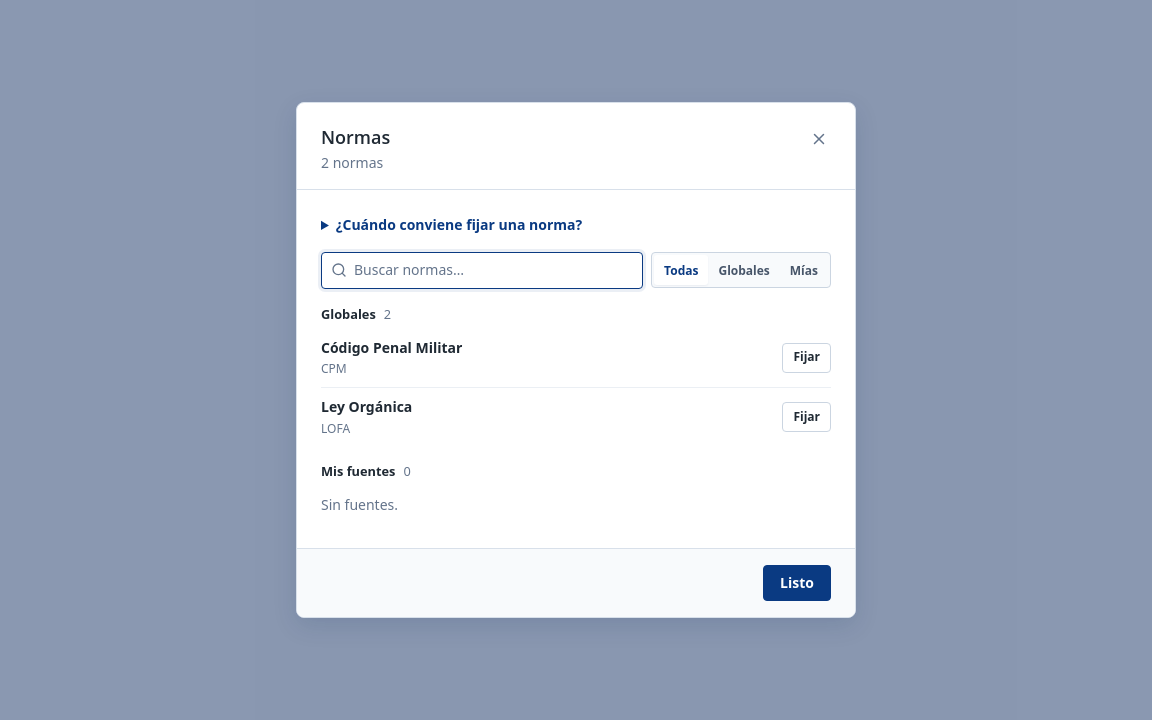
it: SelectorFuentes › filtra por nombre o abreviatura con el buscador
This screenshot has width=1152, height=720.
Type "codigo" into the search field labelled "Buscar normas". click: [482, 270]
box: left=321, top=252, right=643, bottom=289
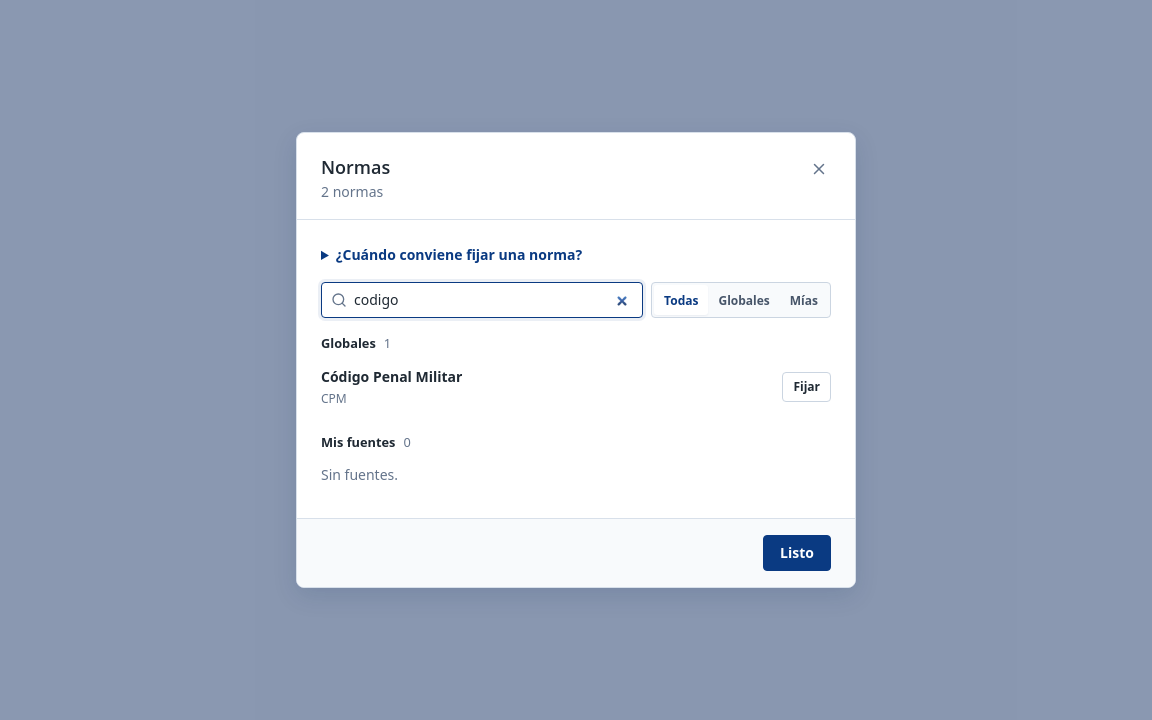
Expected: the text "Código Penal Militar" is shown, left=321, top=367, right=462, bottom=386
Expected: the text "Ley Orgánica" is gone
